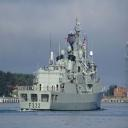Fragata: (18, 17, 108, 112)
